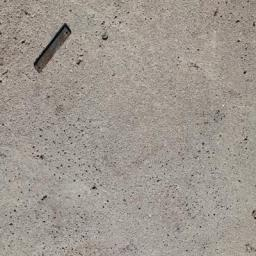FOD: (30, 22, 75, 75)
